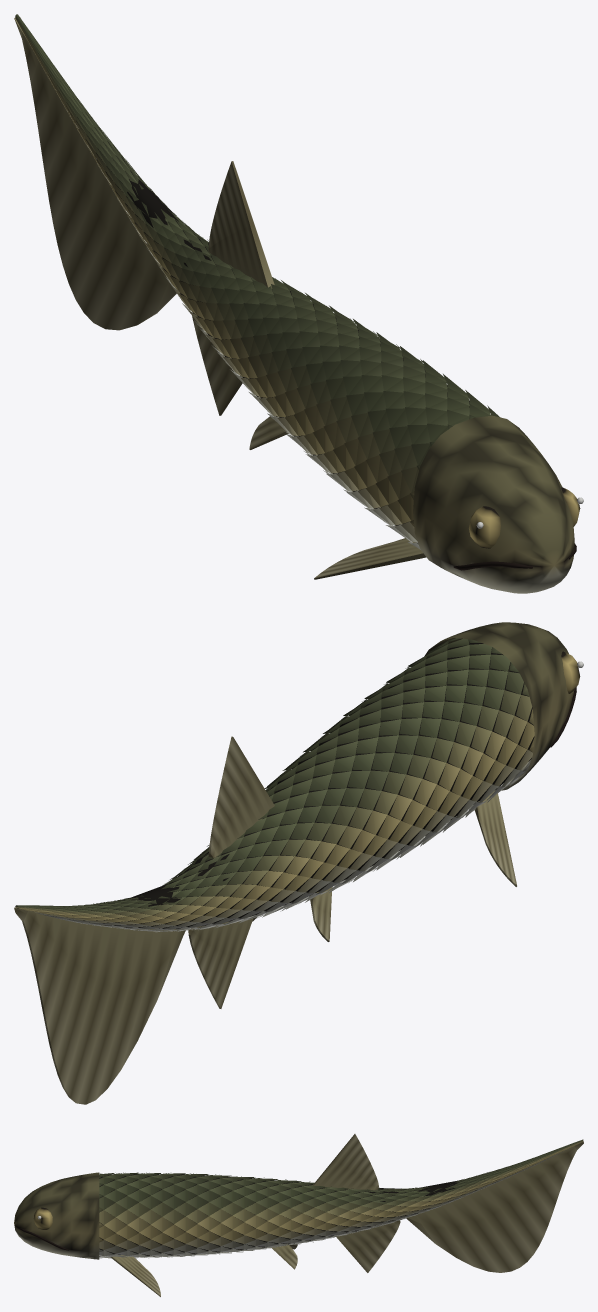
File: Andreolepis.fbx
The picture shows the model from 3 angles, top to bottom: view 1: azimuth 30°, elevation 25°; view 2: azimuth 150°, elevation 25°; view 3: azimuth 270°, elevation 25°; orthographic projection. The views are drawn at different scales.
Parts seen in each view (by area): view 1: Andreolepis; view 2: Andreolepis; view 3: Andreolepis.
Part boxes in pixels (x1,y1,x2,y2): Andreolepis: [14, 14, 583, 593]; Andreolepis: [14, 622, 583, 1104]; Andreolepis: [14, 1134, 583, 1296].
Size of the model in its own units: 0.3496 by 0.4327 by 1.6.
